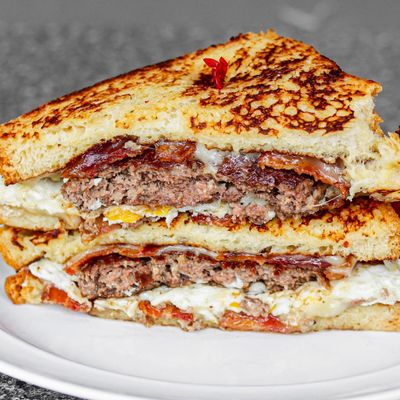sandwich: (0, 33, 397, 346)
